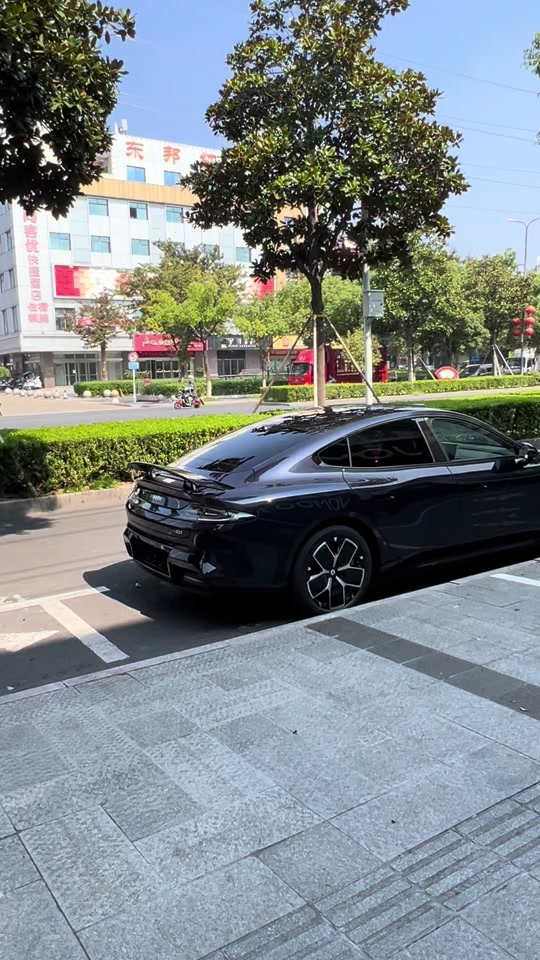su7: (118, 416, 540, 608)
